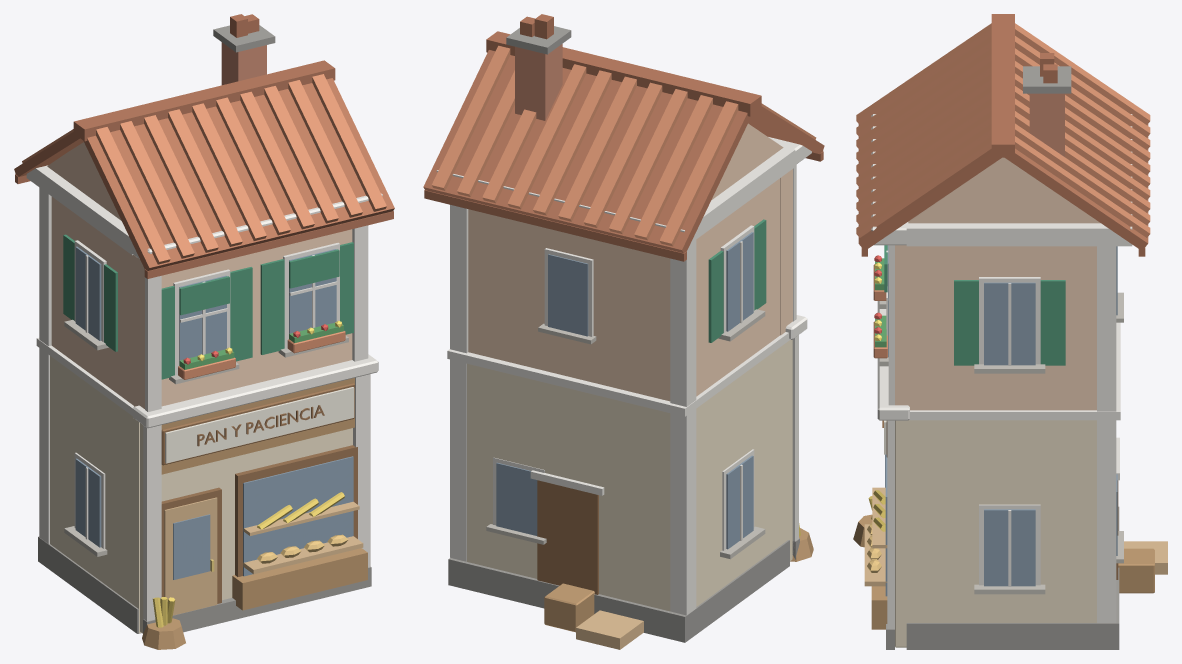
The model's file is env_bakery_facade_01.glb.
3 views of the same model, side by side, from view 1: azimuth 30°, elevation 25°; view 2: azimuth 150°, elevation 25°; view 3: azimuth 270°, elevation 25° (orthographic). The views are drawn at different scales.
Visible parts, largest first — view 1: env_bakery_facade_01_body; view 2: env_bakery_facade_01_body; view 3: env_bakery_facade_01_body.
Boxes of the visible parts, x1,y1,x2,y2 form: env_bakery_facade_01_body: [14, 14, 394, 649]; env_bakery_facade_01_body: [423, 14, 824, 649]; env_bakery_facade_01_body: [853, 14, 1167, 649].
Size of the model in its own units: 4.8 by 9.65 by 4.88.
